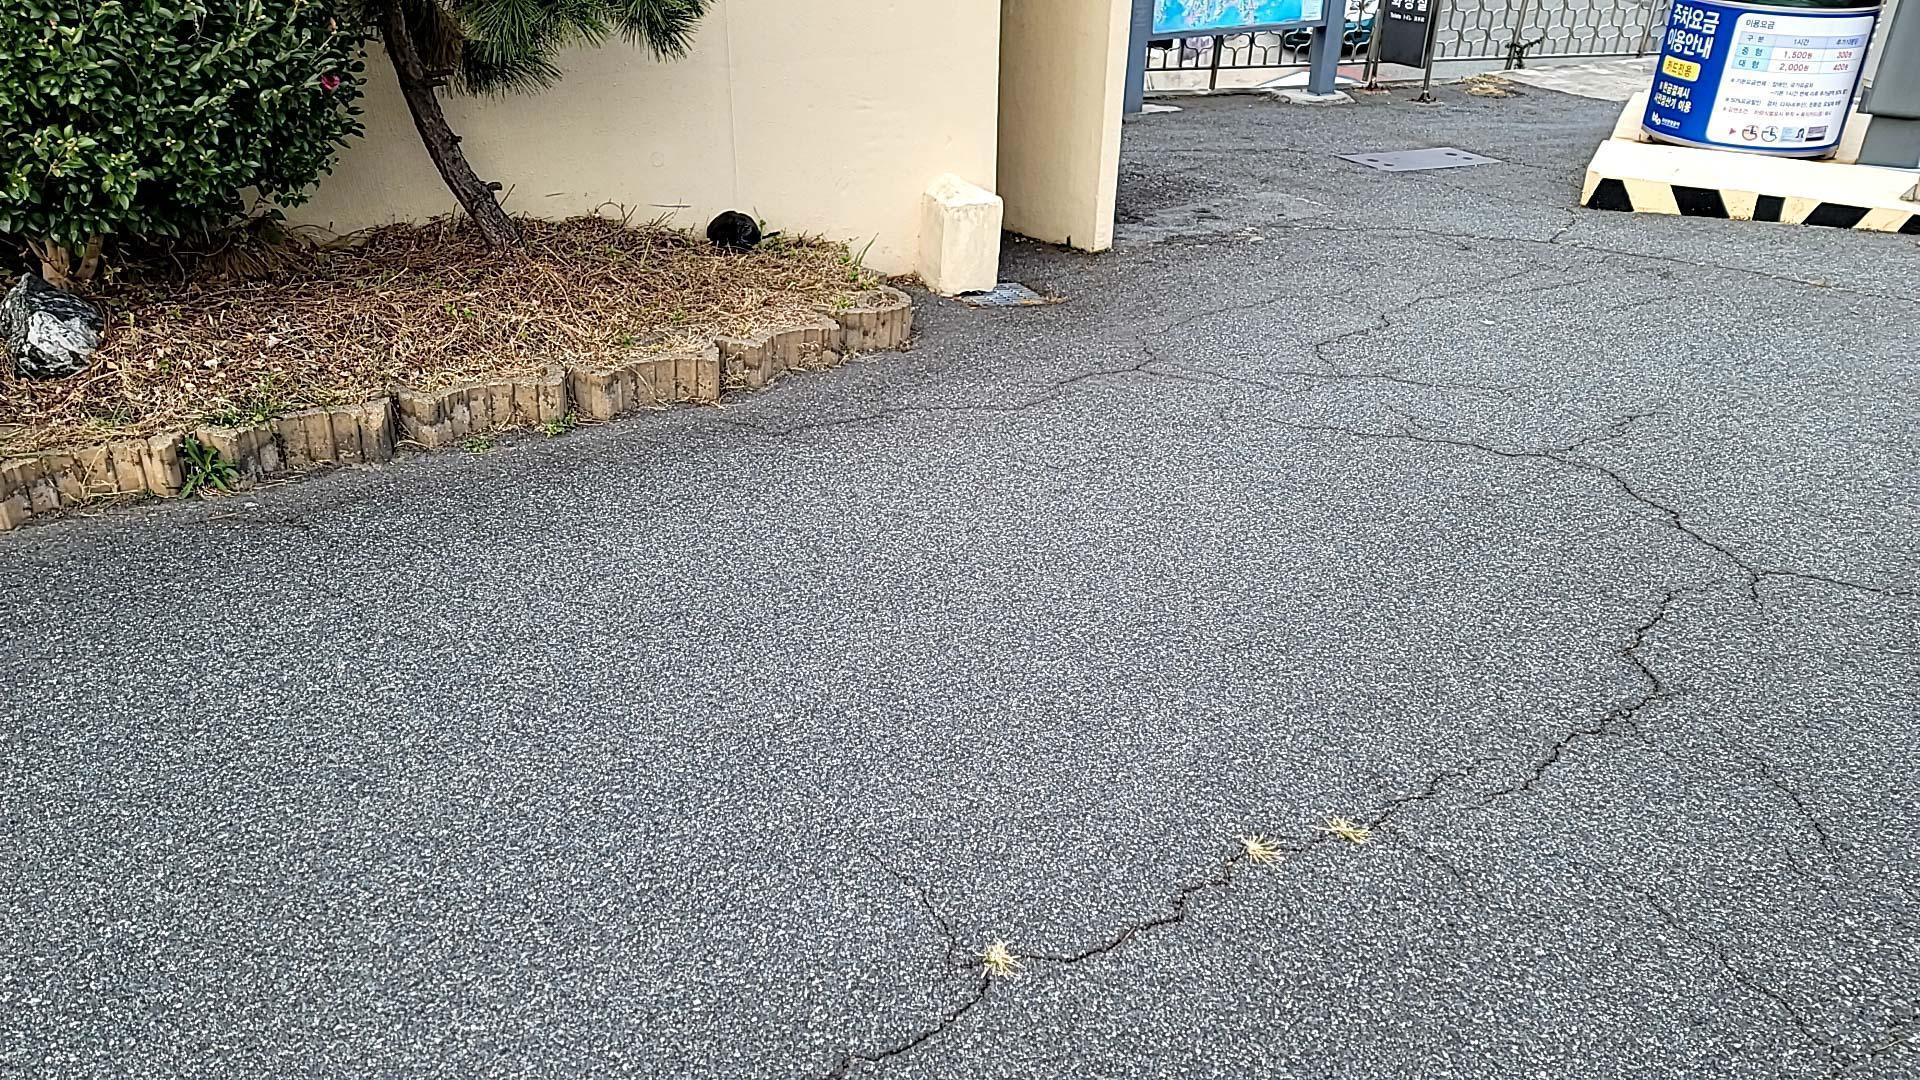white_bag: (702, 208, 785, 258)
